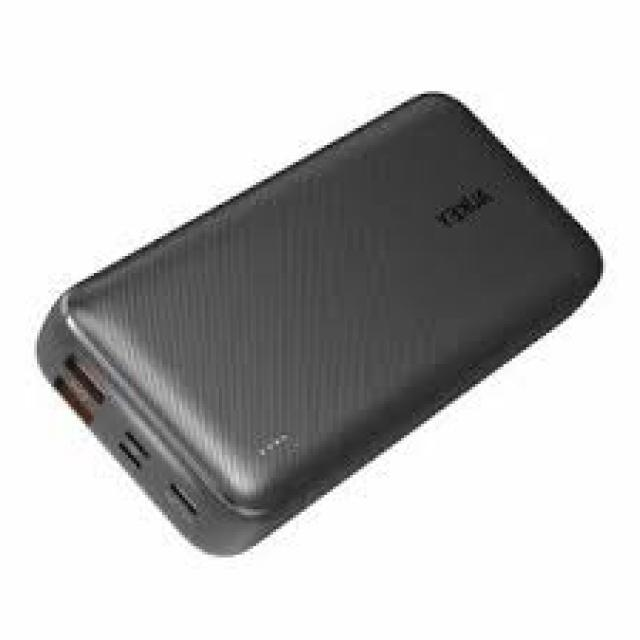battery: (38, 88, 602, 554)
